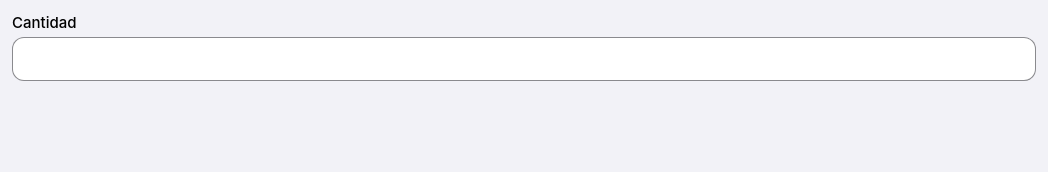
NumberField › caps the typed magnitude at max (including negative numbers)
Earlier steps of the test are not shown.
In the field labelled "Cantidad": (524, 59) [12, 37, 1036, 81], type "-10009"
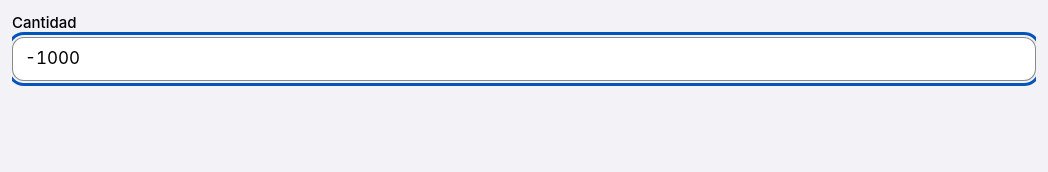
Now the field labelled "Cantidad" holds "-1000", box [12, 37, 1036, 81]
